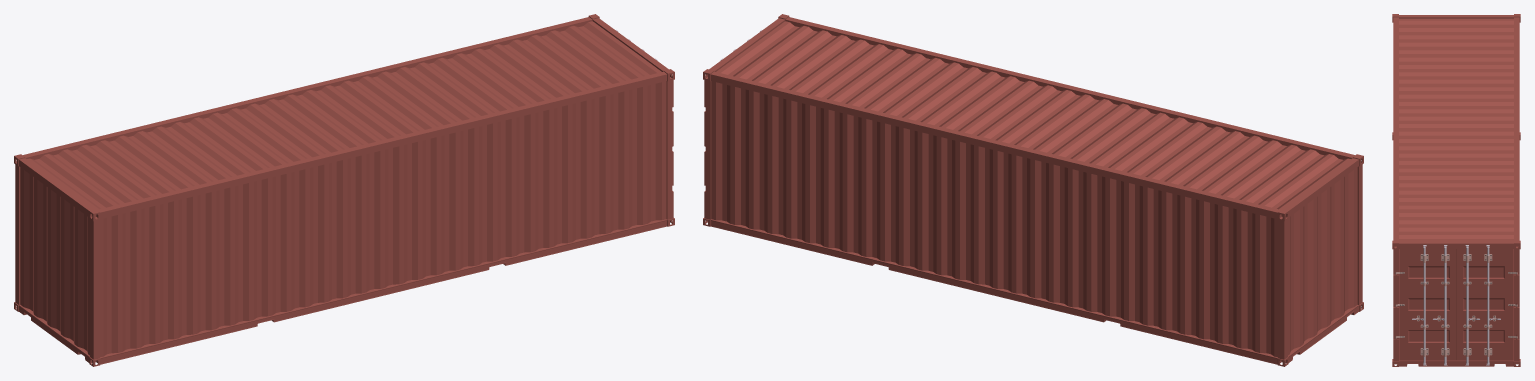
The model's file is industrial_shipping_container.glb.
3 renders of one model, left to right at view 1: azimuth 30°, elevation 25°; view 2: azimuth 150°, elevation 25°; view 3: azimuth 270°, elevation 25°, orthographic. The views are drawn at different scales.
Parts seen in each view (by area): view 1: Body_6; view 2: Body_6; view 3: Body_6, Door.L_1, Door.R_4, Door lock_0, Door lock.001_3.
Boxes of the visible parts, x1,y1,x2,y2 form: Body_6: (14,14,674,366); Body_6: (703,14,1363,366); Body_6: (1392,14,1520,366); Door.L_1: (1395,249,1456,360); Door.R_4: (1456,249,1517,360); Door lock_0: (1412,245,1447,365); Door lock.001_3: (1465,245,1500,365).
Bounding box in the file's own units: 7.04 × 1.76 × 1.66.
